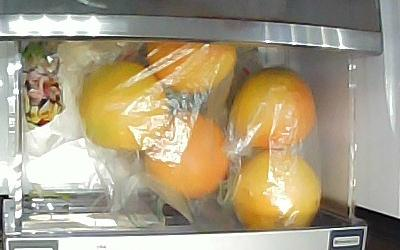grapefruit_vinyl: (80, 62, 168, 154), (229, 66, 316, 152), (146, 111, 228, 200), (231, 149, 321, 230), (145, 43, 235, 92)
